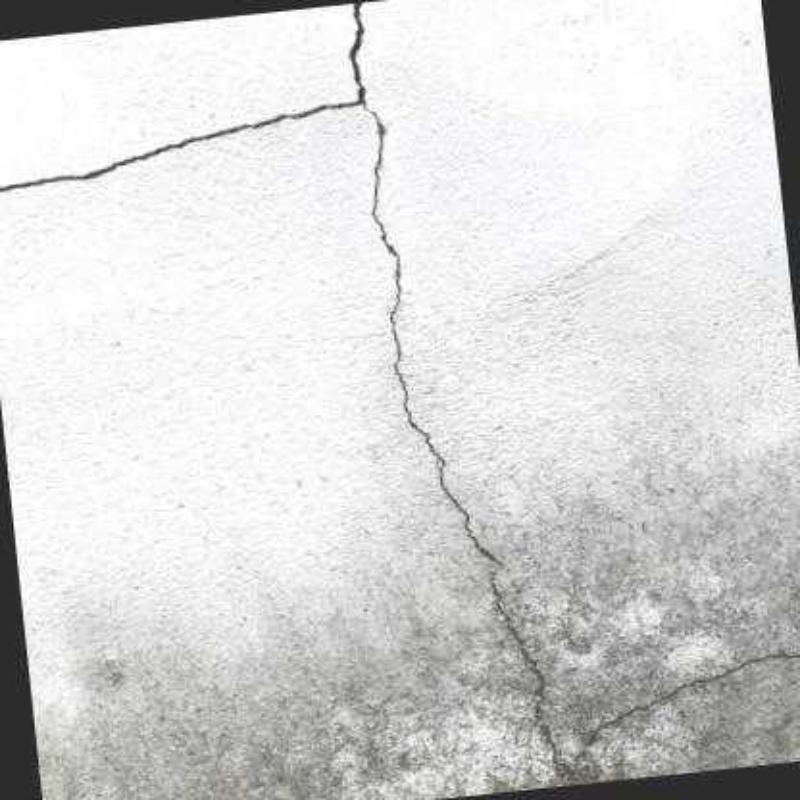pothole: (2, 2, 571, 776), (569, 652, 798, 774)
